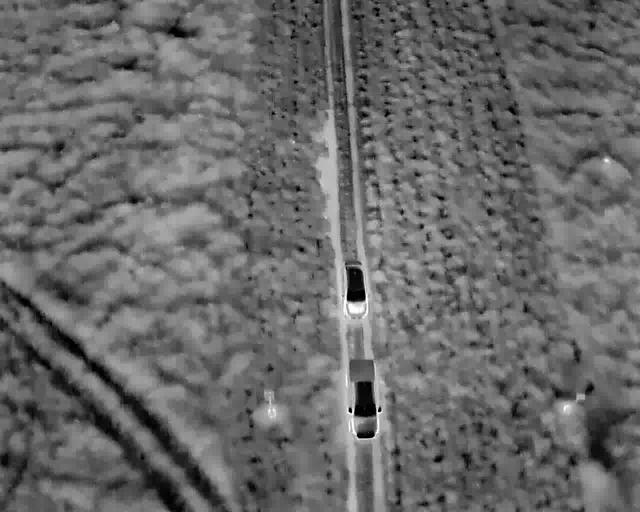car: (345, 357, 383, 440), (340, 259, 370, 322)
